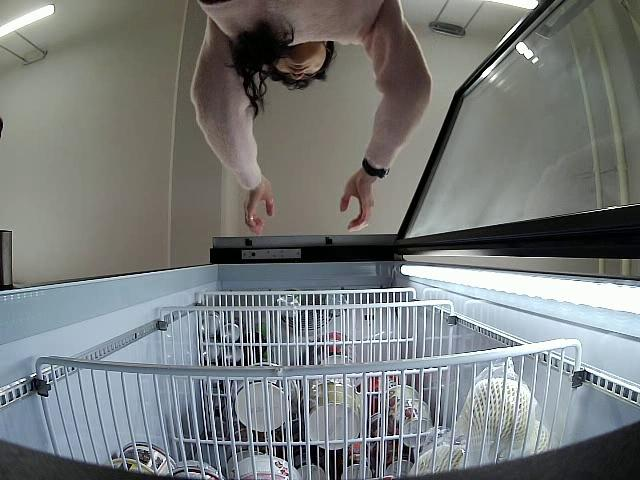00_hand: (340, 169, 376, 234), (244, 178, 276, 235)
